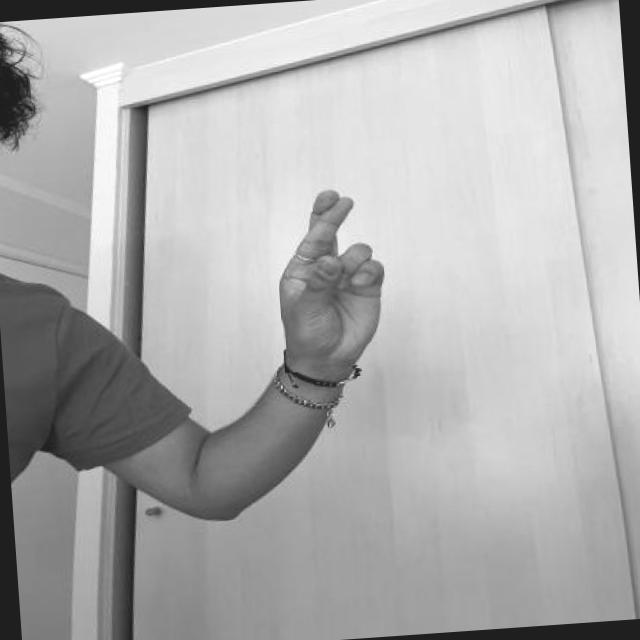R: (272, 183, 398, 373)
